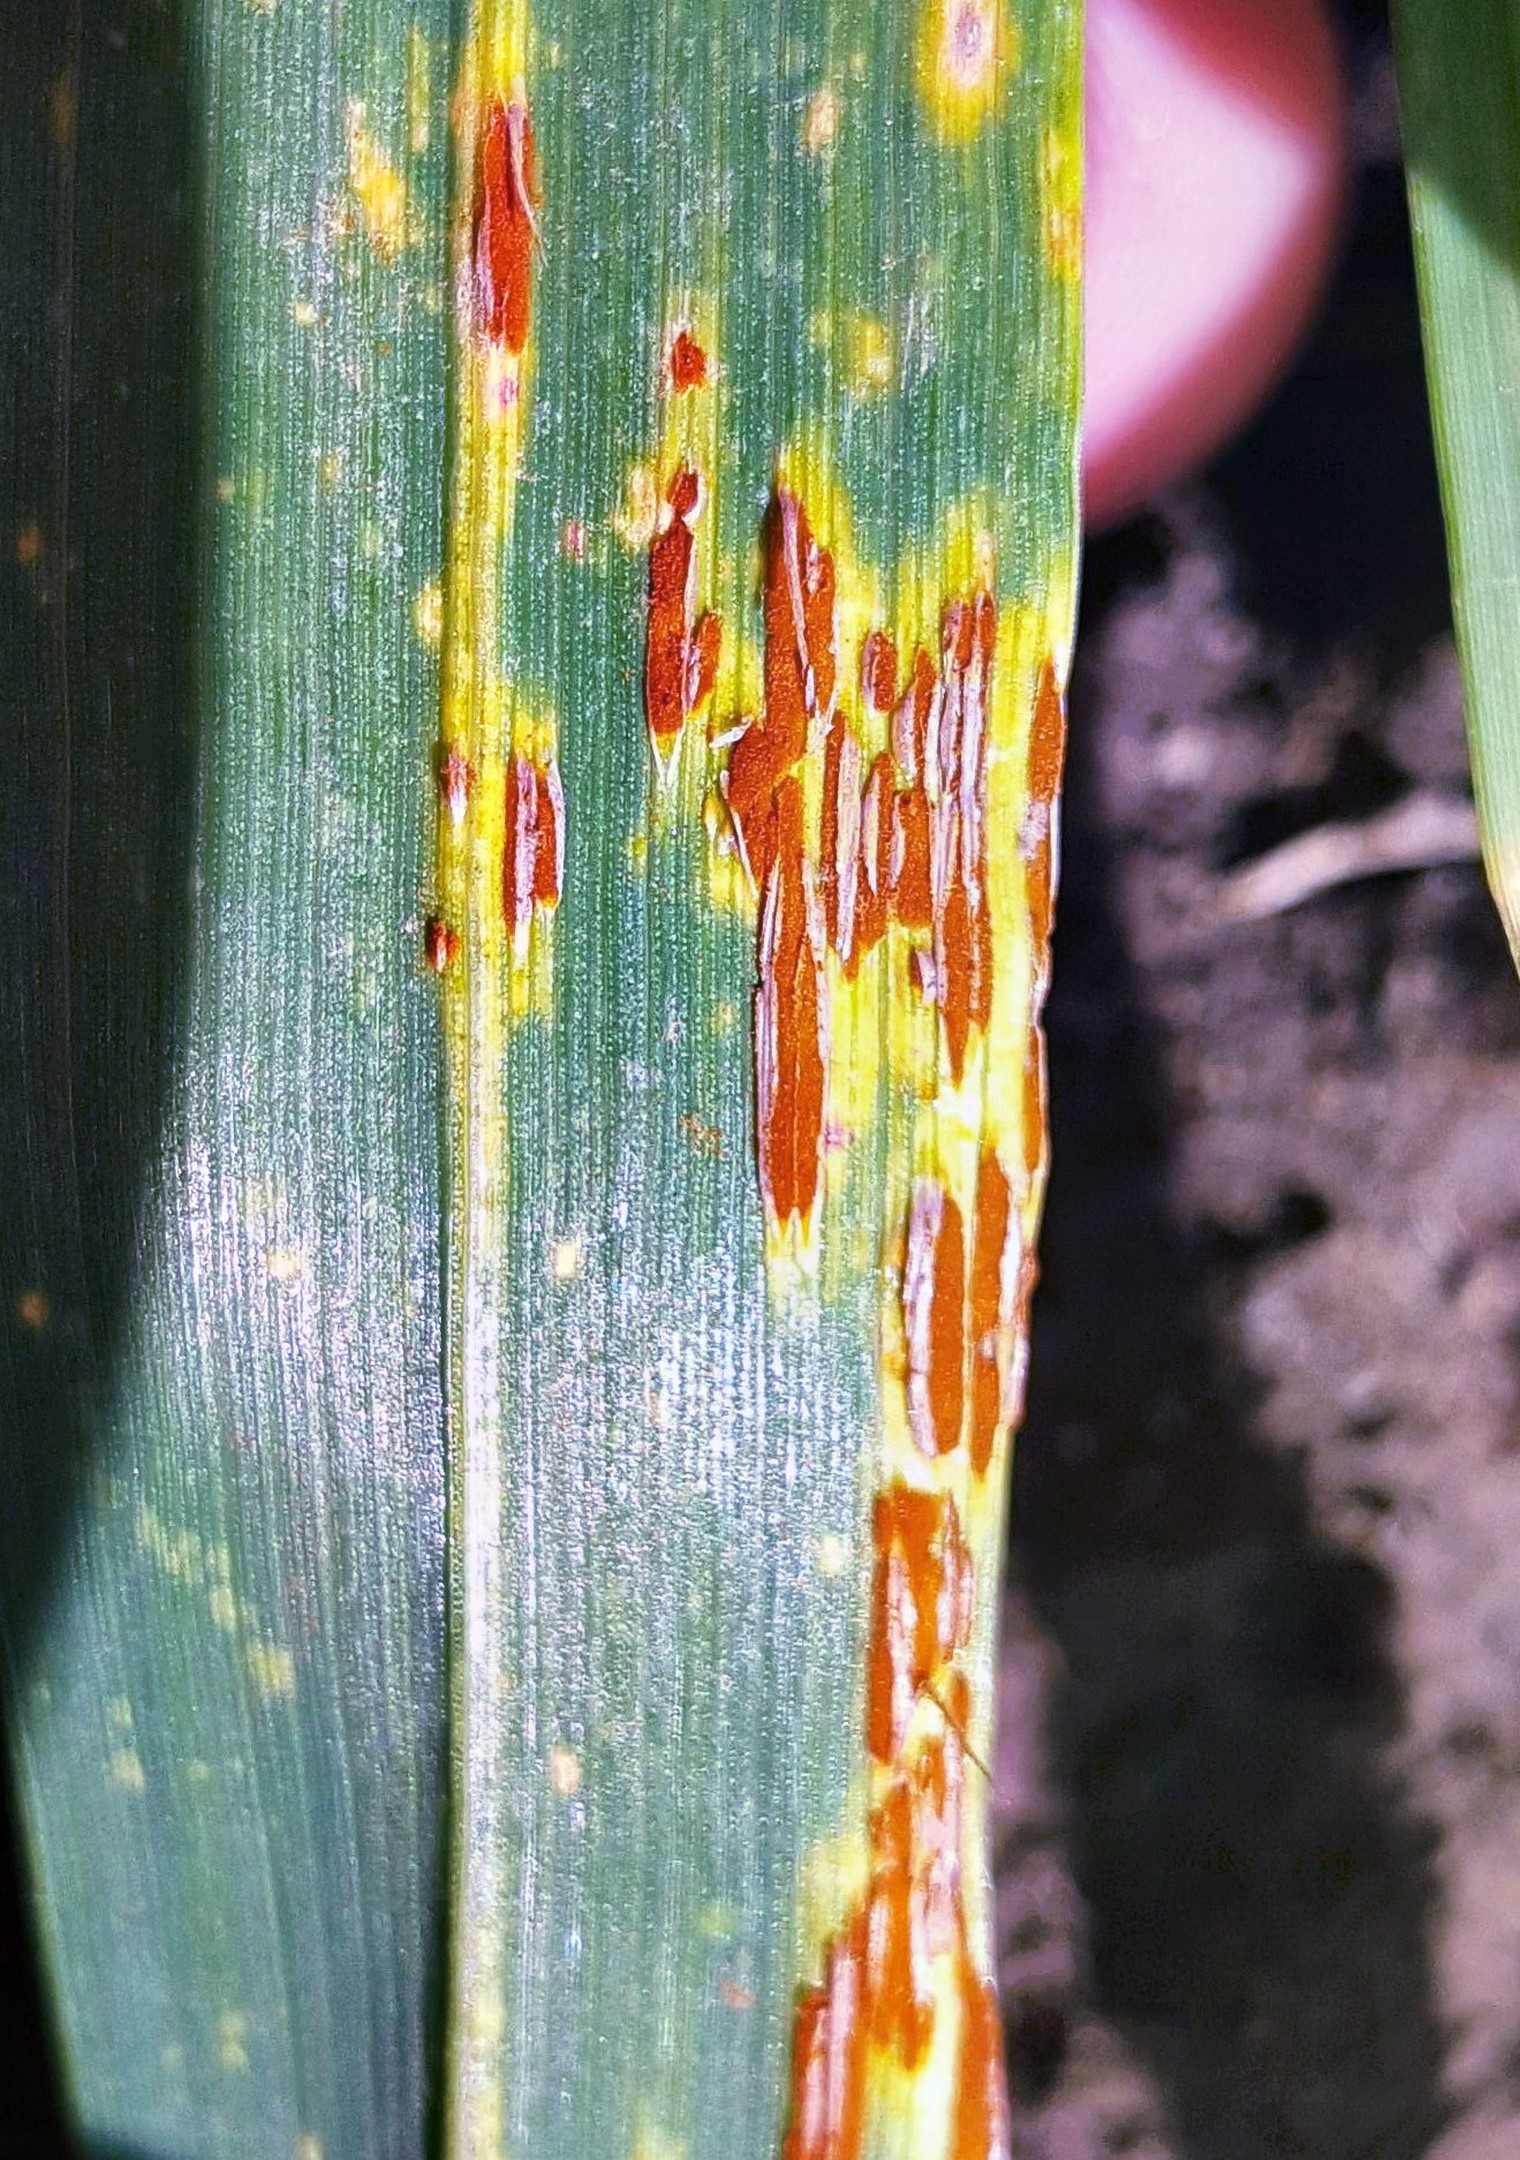Leaf Rust: (449, 168, 1212, 2160)
